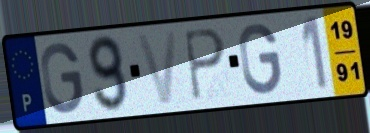1: (298, 14, 330, 94)
9: (85, 33, 131, 116)
G: (237, 21, 284, 98), (39, 41, 86, 117)
P: (181, 26, 228, 104)
V: (134, 28, 180, 108)
